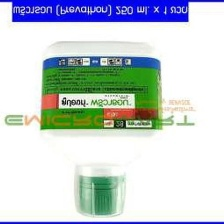insecticide: (36, 38, 165, 220)
